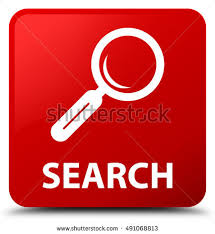searchIcon: (49, 27, 166, 142)
